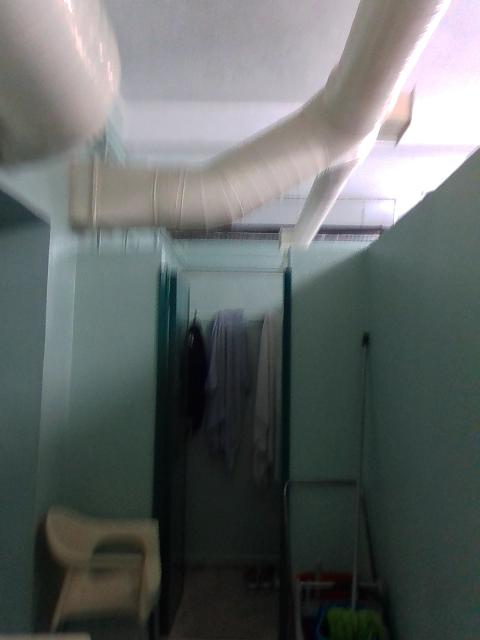open_door: (150, 239, 290, 639)
